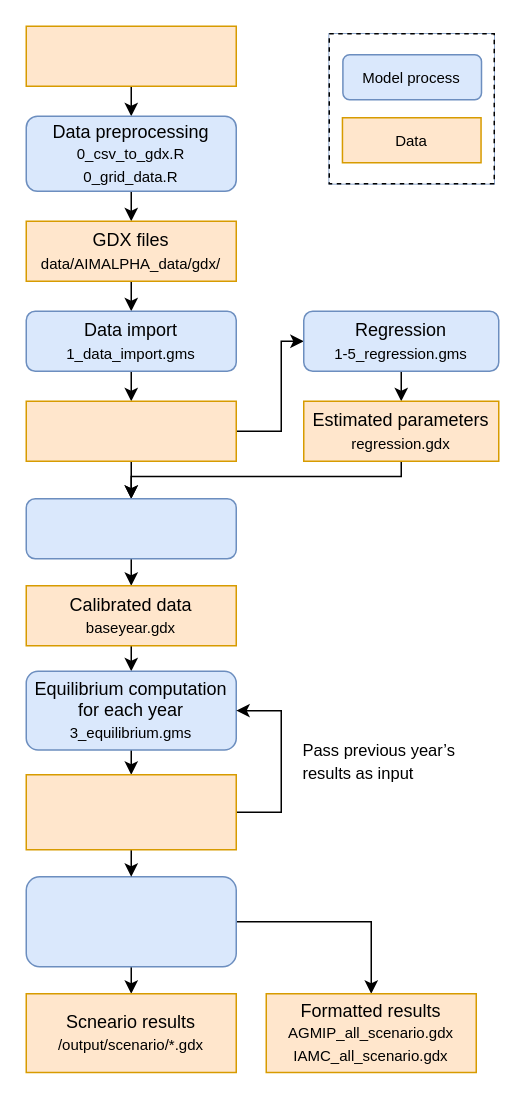
The diagram is 525 pixels wide and 1100 high, and some of its shapes have lost their labels. The box of each missing label's shape, as (x1, y1, x2, y2) in pixels:
Annual equilibrium results <year>.gdx: (25, 773, 236, 850)
Calibration 2_baseyear.gms: (25, 497, 236, 559)
Combine results 4_combine_gdx.gms 5_scenario_combine.gms: (25, 875, 236, 967)
Imported data data.gdx: (25, 400, 236, 461)
Input data (csv,xlsx,grid data): (25, 25, 236, 86)
